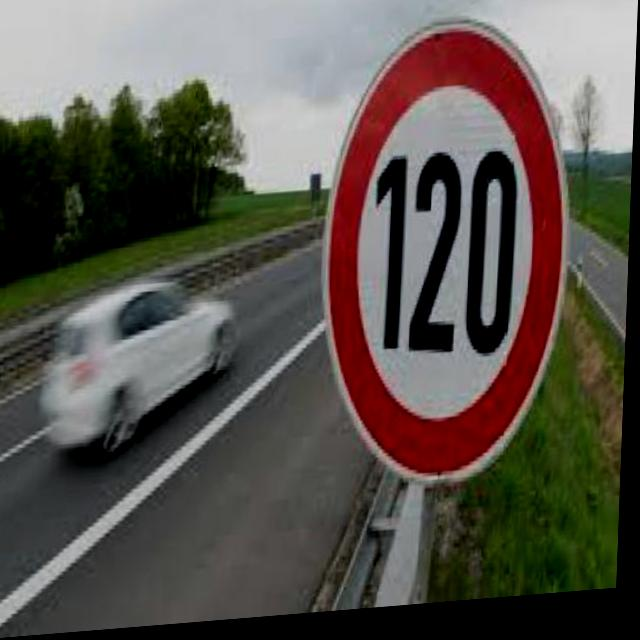limit120: (311, 14, 584, 512)
